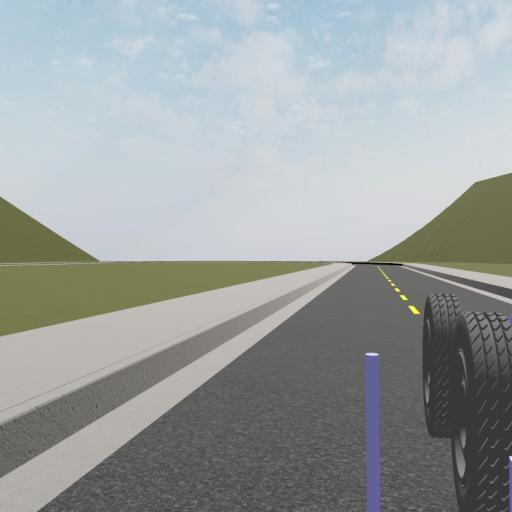ERP-42: (420, 292, 512, 511)
